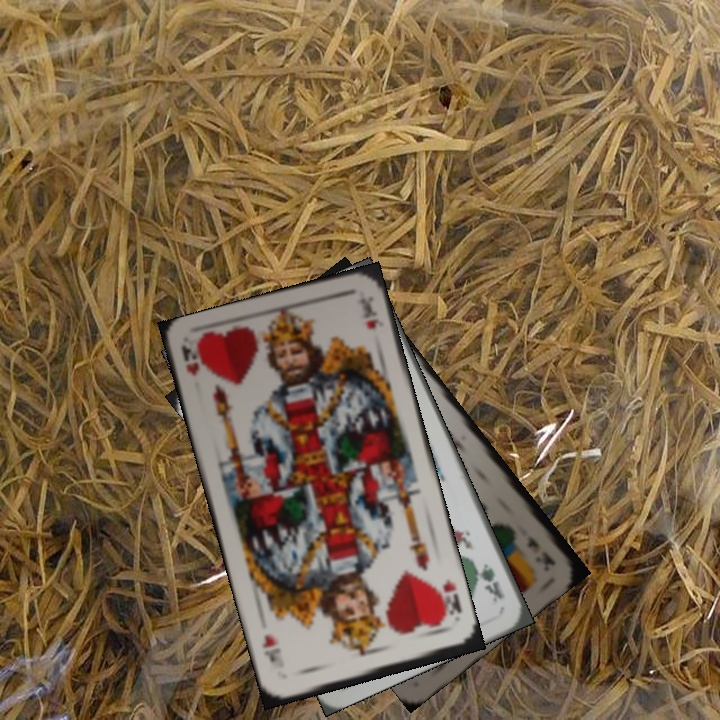EK: (523, 532, 558, 572)
GK: (468, 556, 507, 605)
HK: (431, 575, 464, 623), (177, 338, 205, 378)
